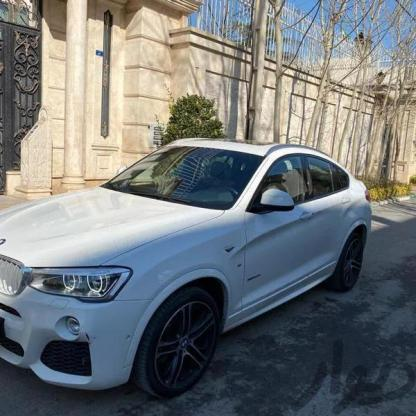Car: (0, 130, 381, 403)
